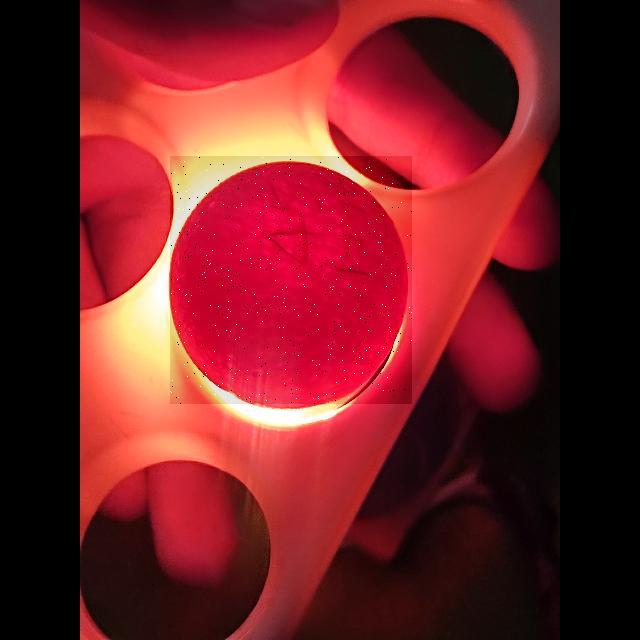Infertile: (170, 156, 412, 404)
